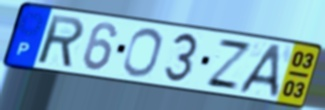3: (160, 31, 201, 86)
6: (80, 20, 120, 72)
A: (236, 43, 284, 99)
O: (120, 26, 164, 79)
R: (36, 13, 86, 70)
Z: (203, 37, 255, 93)
